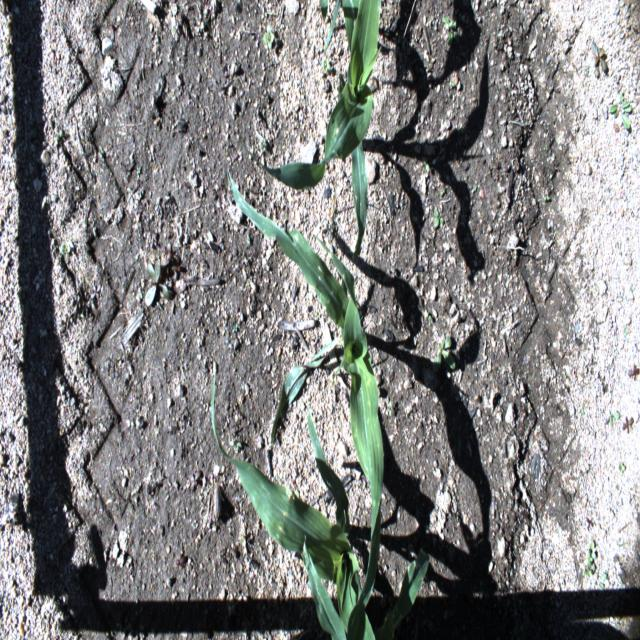crop: (227, 170, 385, 546), (211, 359, 381, 636), (256, 0, 382, 261), (303, 536, 429, 640), (318, 0, 329, 24)
weed: (145, 261, 170, 308), (432, 334, 456, 374), (609, 90, 632, 130), (591, 41, 607, 78), (441, 17, 460, 45), (262, 22, 276, 51), (432, 209, 447, 229), (582, 556, 595, 578), (321, 55, 332, 77), (609, 412, 621, 427), (586, 541, 596, 559), (55, 128, 63, 144), (542, 193, 551, 203), (623, 324, 628, 340), (449, 79, 456, 89), (440, 185, 445, 197)
